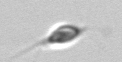plankton: (28, 19, 97, 50)
